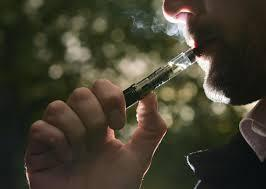smoker: (58, 2, 256, 187)
